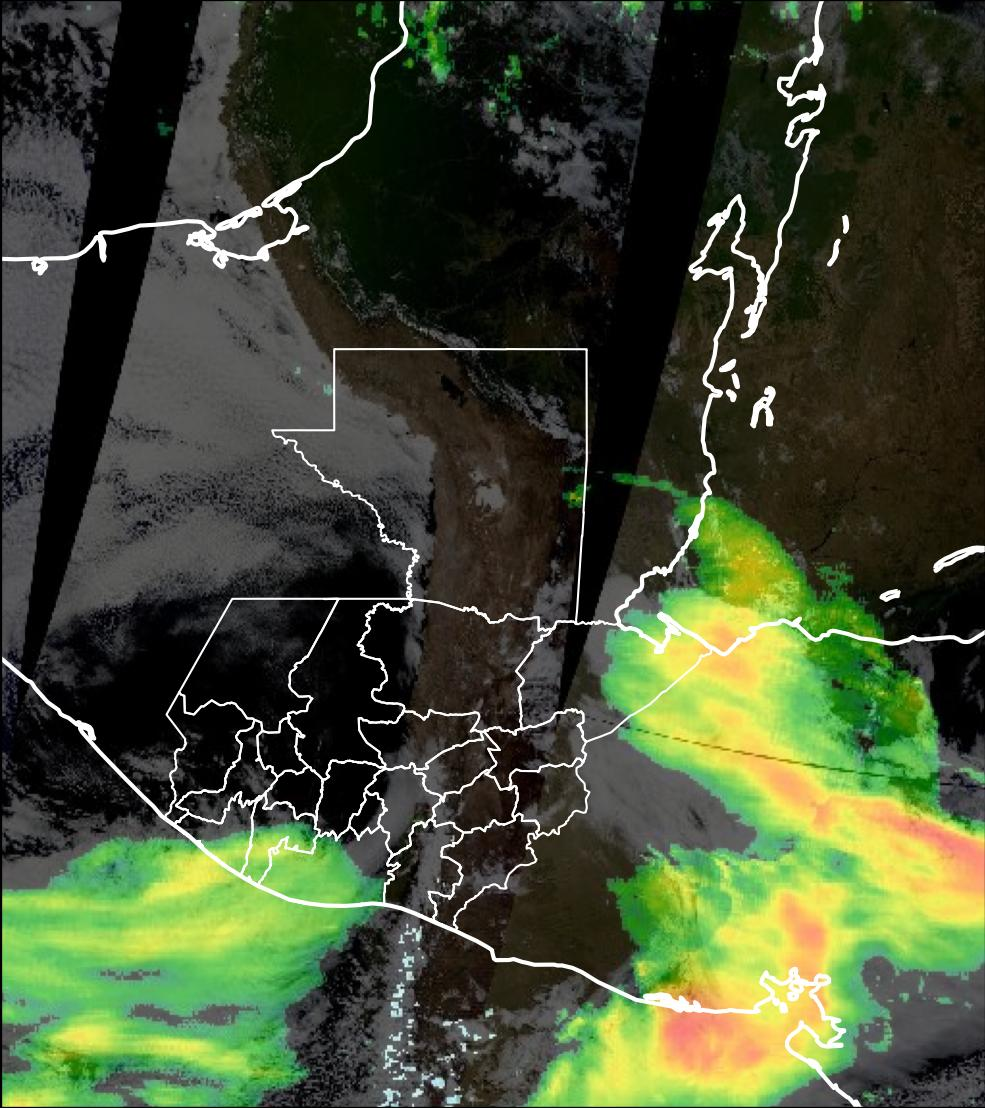precipitacion: (747, 747, 985, 982), (647, 993, 862, 1084)
